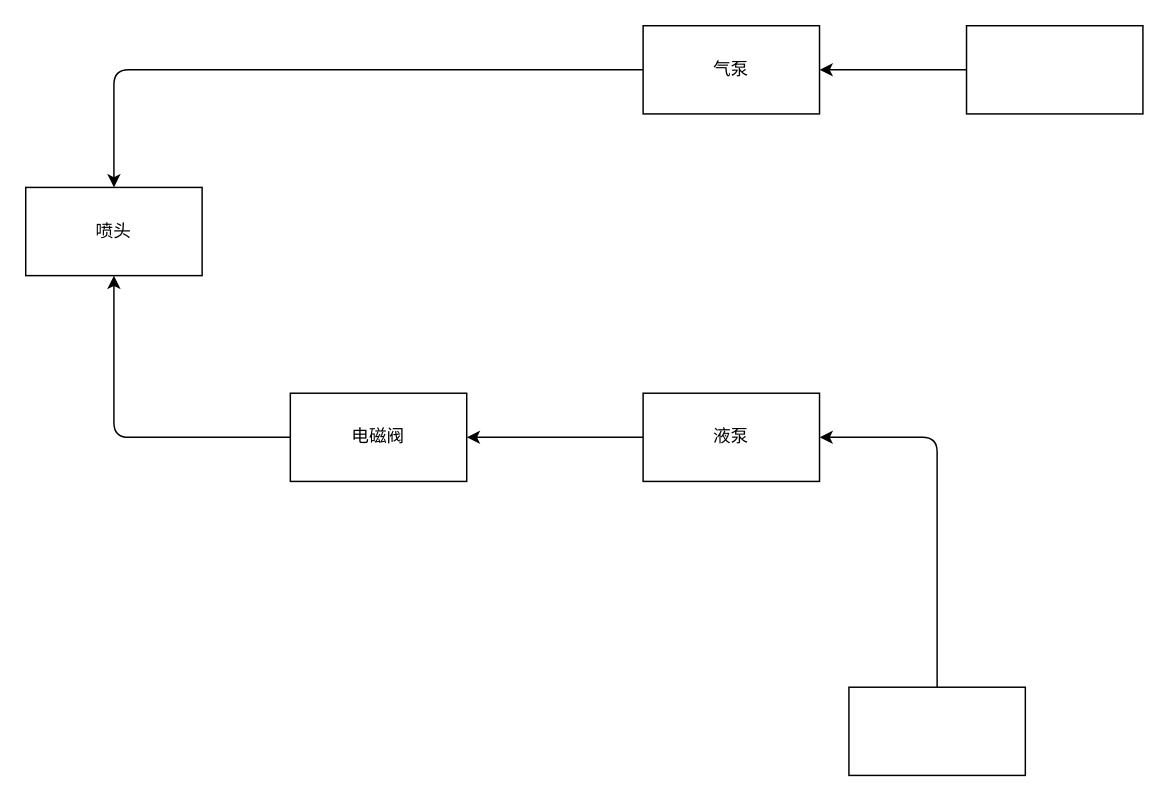
Image size: 1169x801. Some labels were removed from this diagram. The shapes that lost their labels are listed below. From the top down, each one's box as (x1, y1, x2, y2) in pixels, then its label:
(965, 24, 1143, 114): 滤网
(847, 686, 1025, 775): 消毒液
